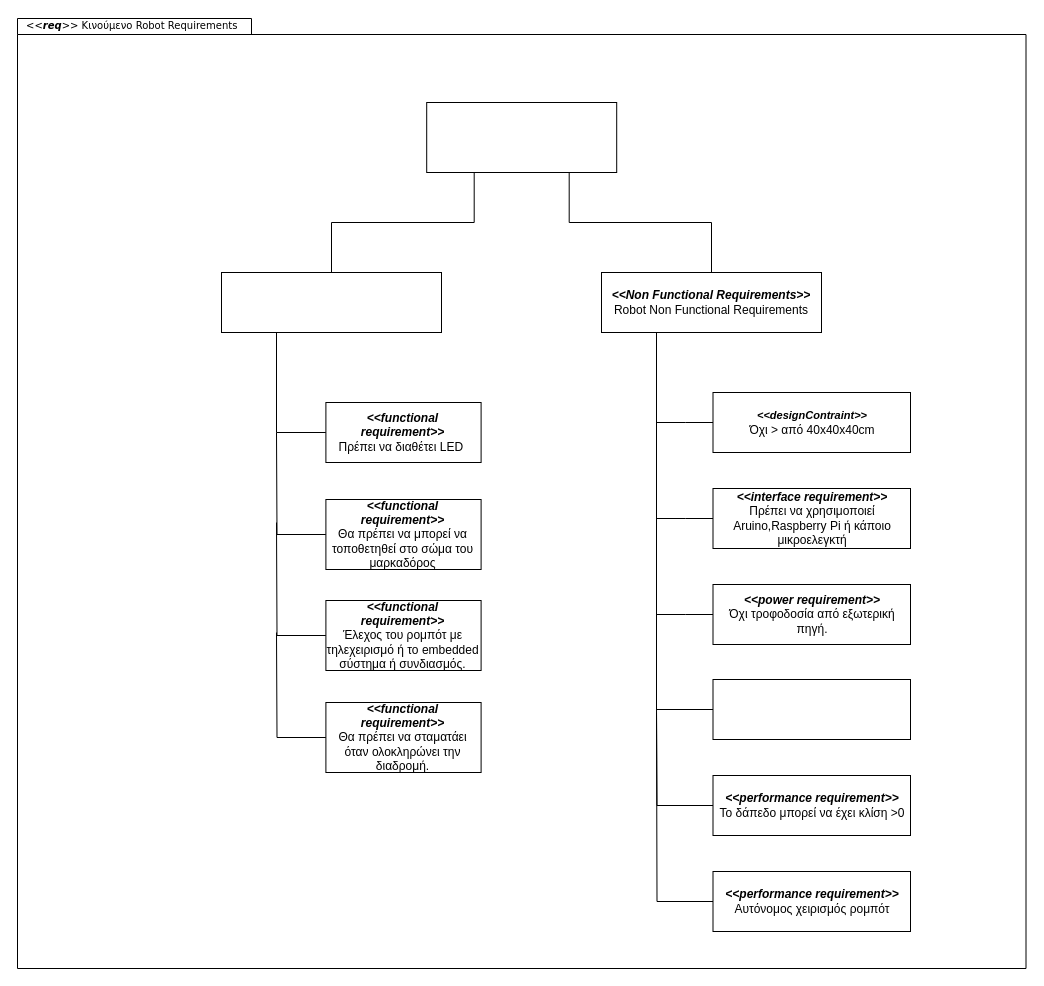
This 1044x986 diagram has some shape labels left out. Here are the shapes that lost their labels. From the top down, the centre of each, then its label:
the point at 521,137: Κινούμενο Ρομπότ REQUIREMENTS
the point at 331,302: <<Performance Requirements>> Robot Functional Requirements
the point at 811,709: <<physical requirement>> Πρέπει να έχει 3 ρόδες
